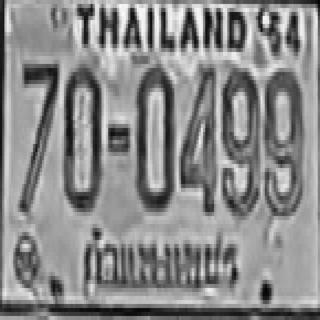N00: (135, 64, 172, 208), (62, 64, 99, 208)
N04: (179, 62, 216, 210)
N07: (18, 60, 57, 212)
N09: (263, 66, 302, 214), (221, 66, 258, 214)
P16: (77, 220, 244, 299)
